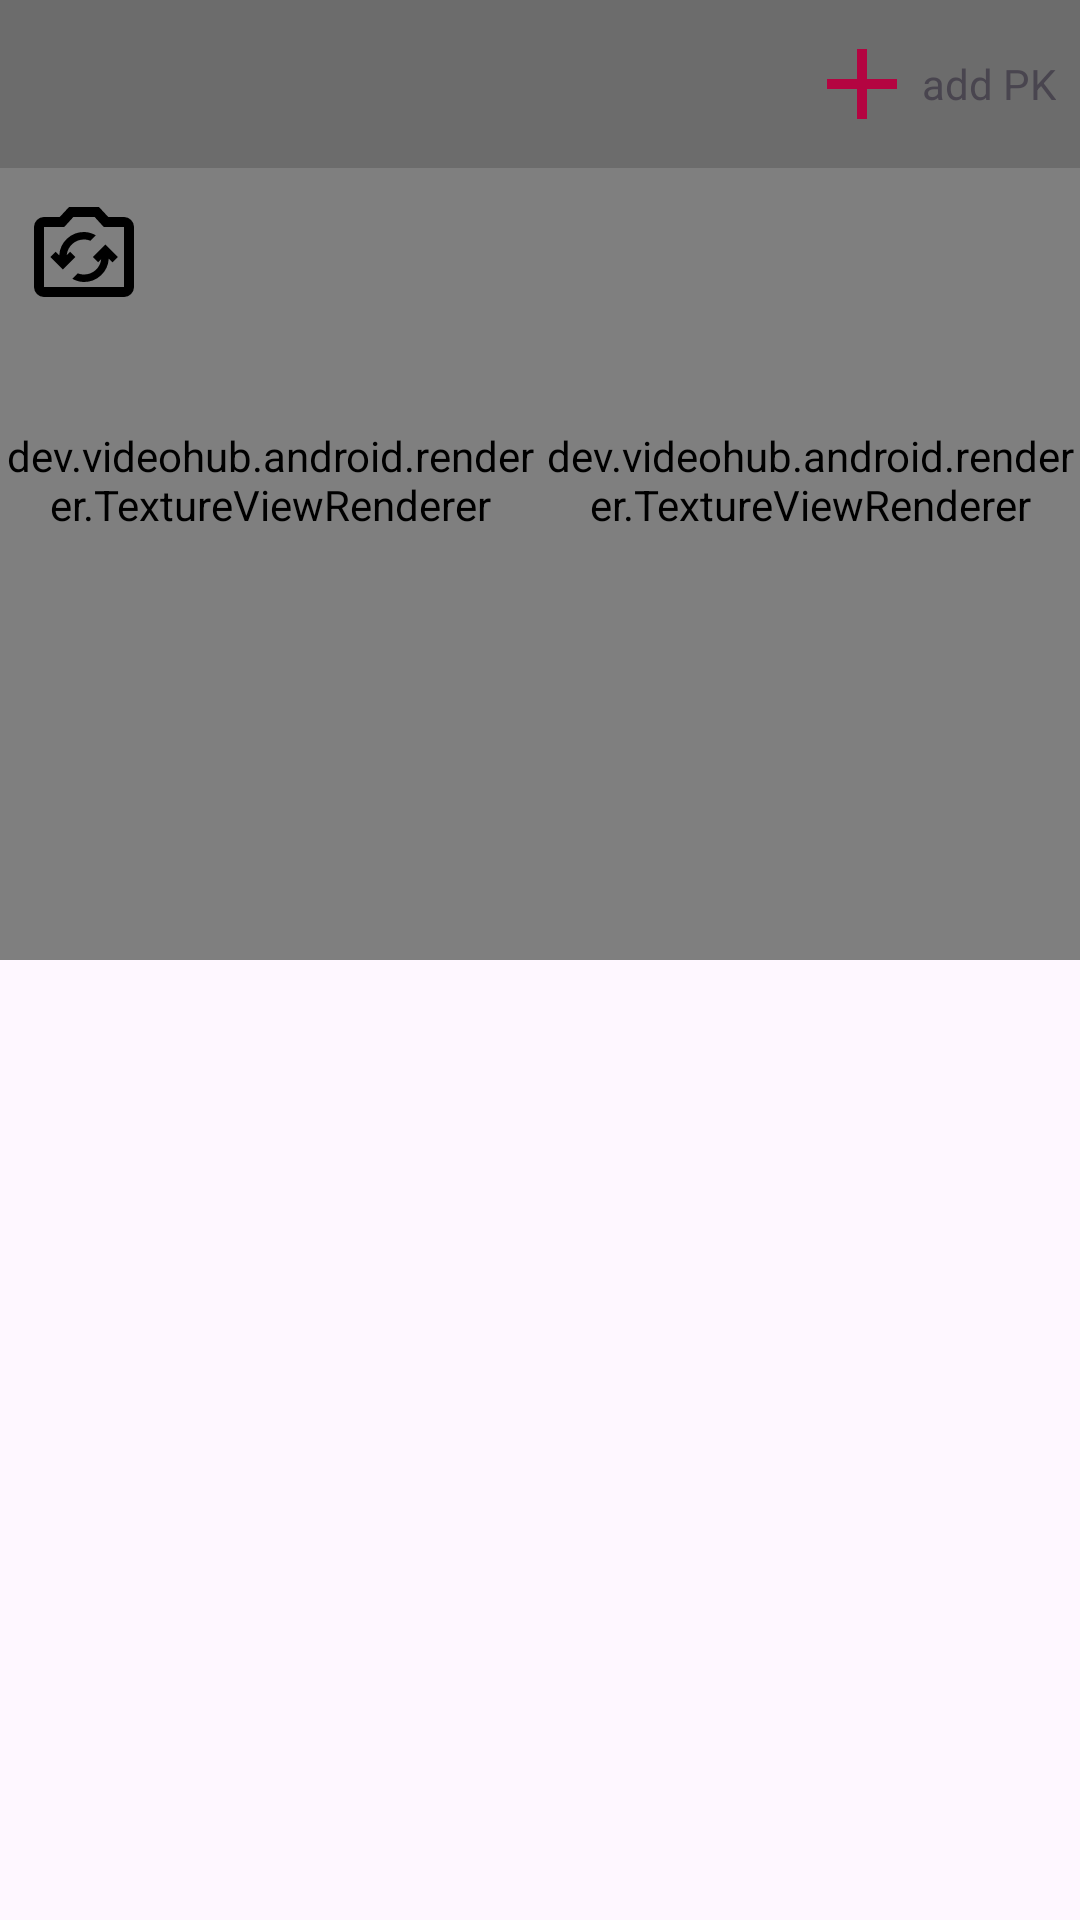

Where icons sit on this 1080*1920 app screen, as (x1, y1, x2, y2):
flip camera: (34, 207, 134, 297)
